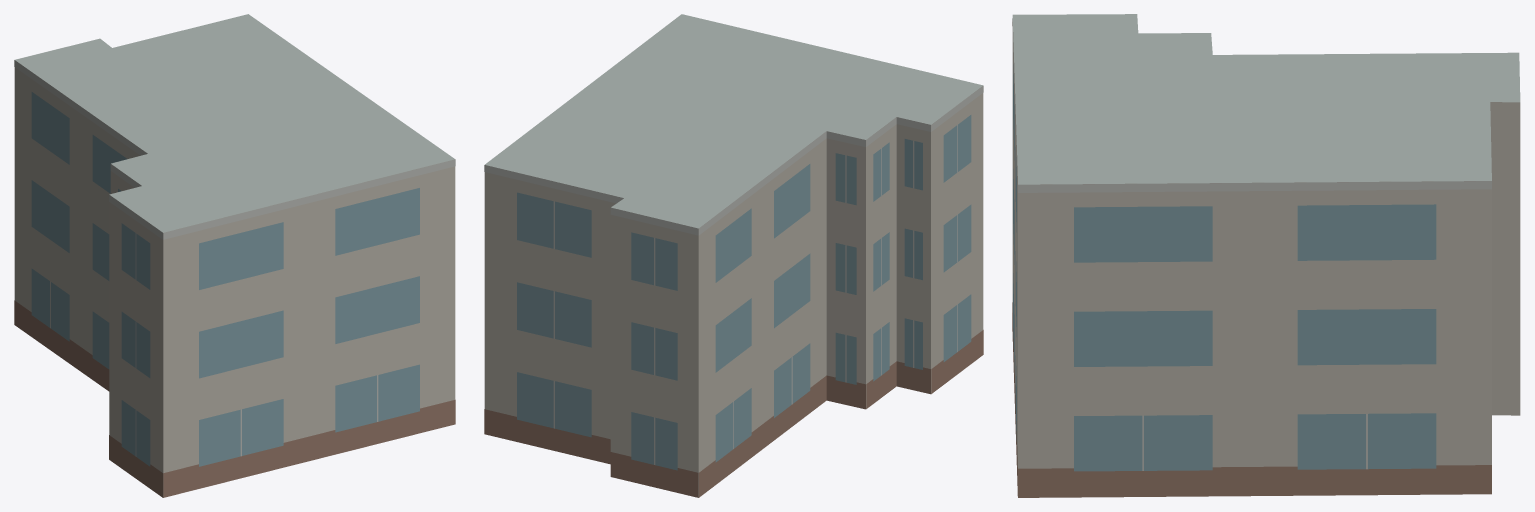
File: survey-upis-32717744.glb
3 views of the same model, side by side, from view 1: azimuth 30°, elevation 25°; view 2: azimuth 150°, elevation 25°; view 3: azimuth 270°, elevation 25° (orthographic). The views are drawn at different scales.
Visible parts, largest first — view 1: survey-upis-32717744.tmp; view 2: survey-upis-32717744.tmp; view 3: survey-upis-32717744.tmp.
Part boxes in pixels (x1,y1,x2,y2): survey-upis-32717744.tmp: (14,14,455,497); survey-upis-32717744.tmp: (484,14,983,497); survey-upis-32717744.tmp: (1012,14,1520,497).
Bounding box in the file's own units: 10.7 × 9.15 × 13.46.
